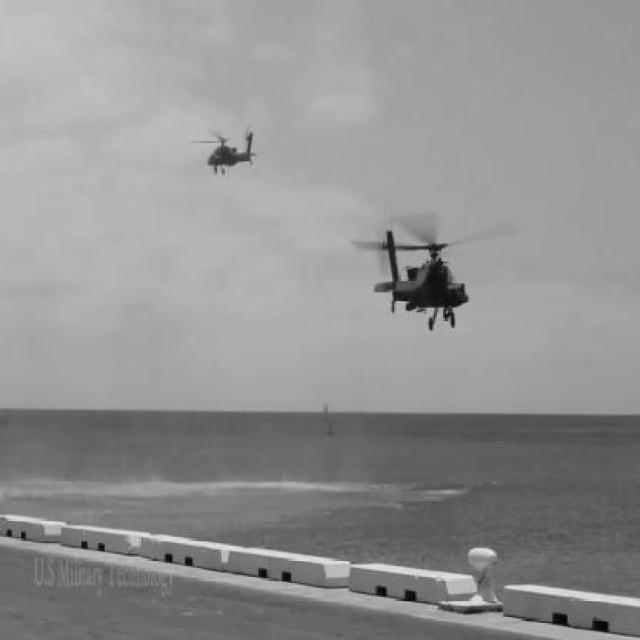Helicopter: (350, 213, 515, 334), (187, 126, 260, 177)
